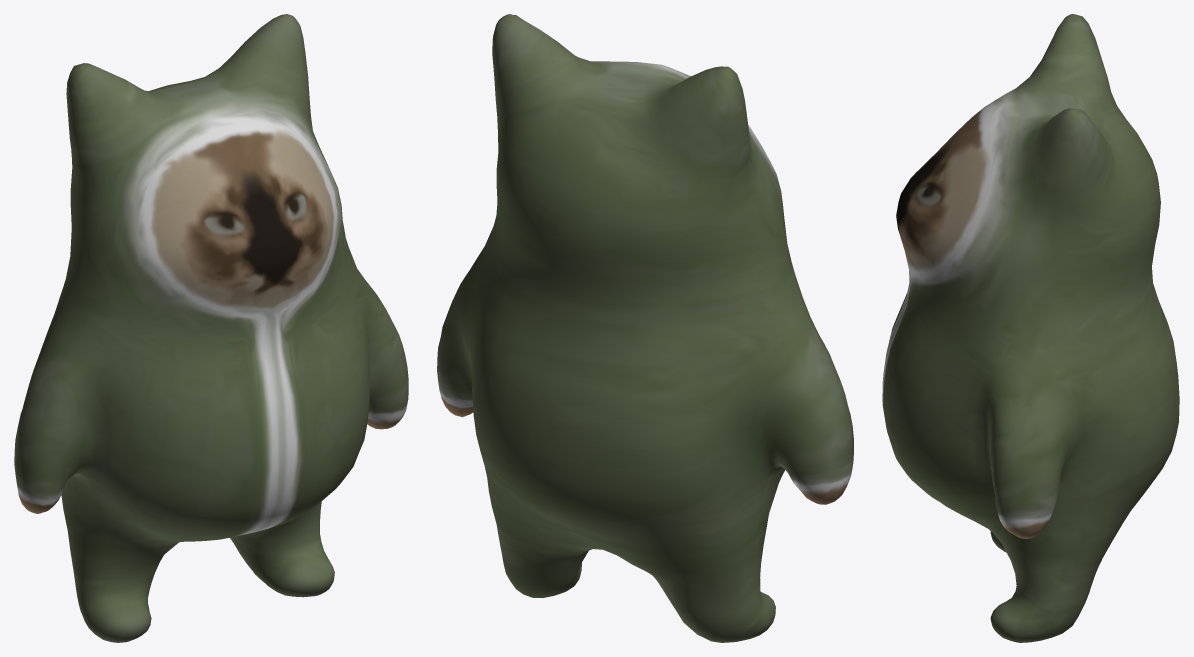
Rendered from unu (3).glb.
The picture shows the model from 3 angles, left to right: view 1: azimuth 30°, elevation 25°; view 2: azimuth 150°, elevation 25°; view 3: azimuth 270°, elevation 25°; orthographic projection. The views are drawn at different scales.
Visible parts, largest first — view 1: Circle; view 2: Circle; view 3: Circle.
Boxes of the visible parts, x1,y1,x2,y2 form: Circle: [14, 14, 408, 642]; Circle: [437, 14, 853, 642]; Circle: [882, 14, 1179, 642].
Bounding box in the file's own units: 0.3614 × 0.5026 × 0.2542.
1 material, 1 textured.
